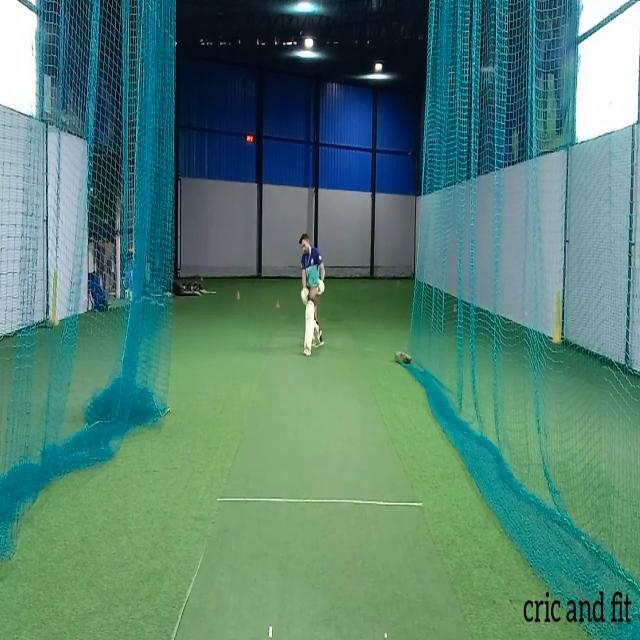batsman: (298, 231, 326, 357)
